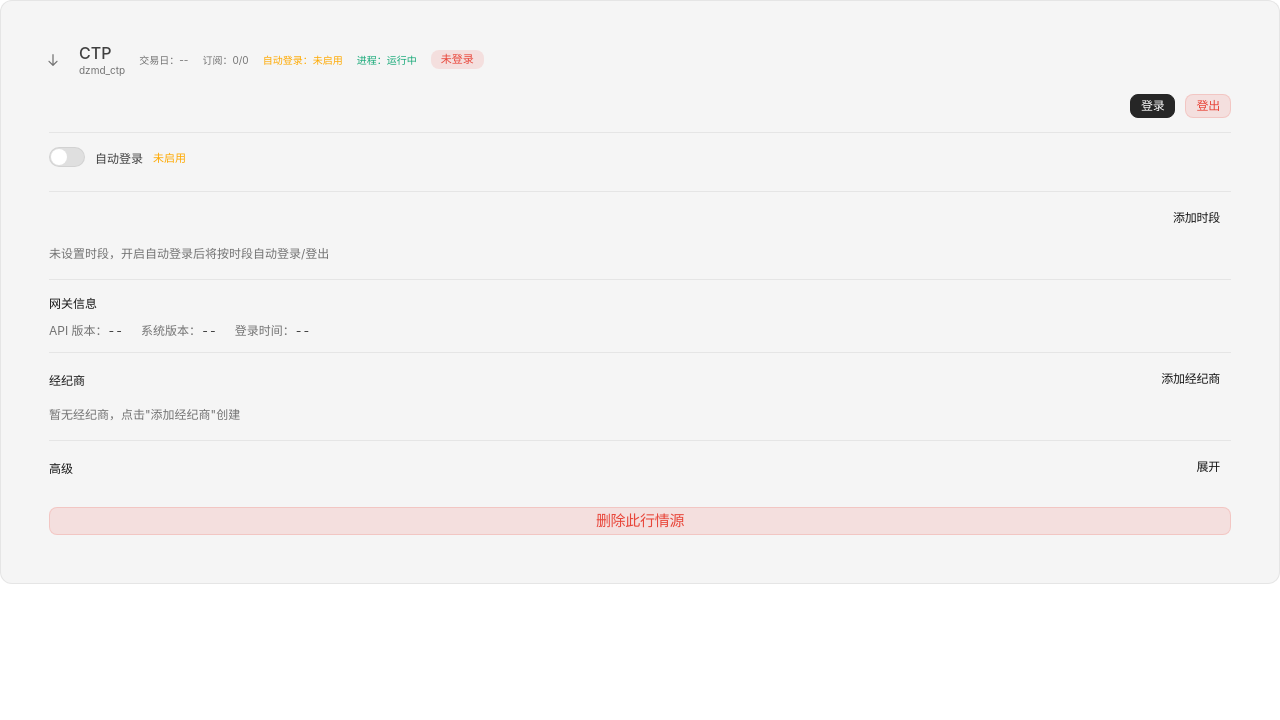
CtpCard 经纪商折叠 › 添加经纪商：名称为空时确认禁用，填写后可提交
Click the button "添加经纪商" at (1191,379), box [1150, 367, 1231, 391]
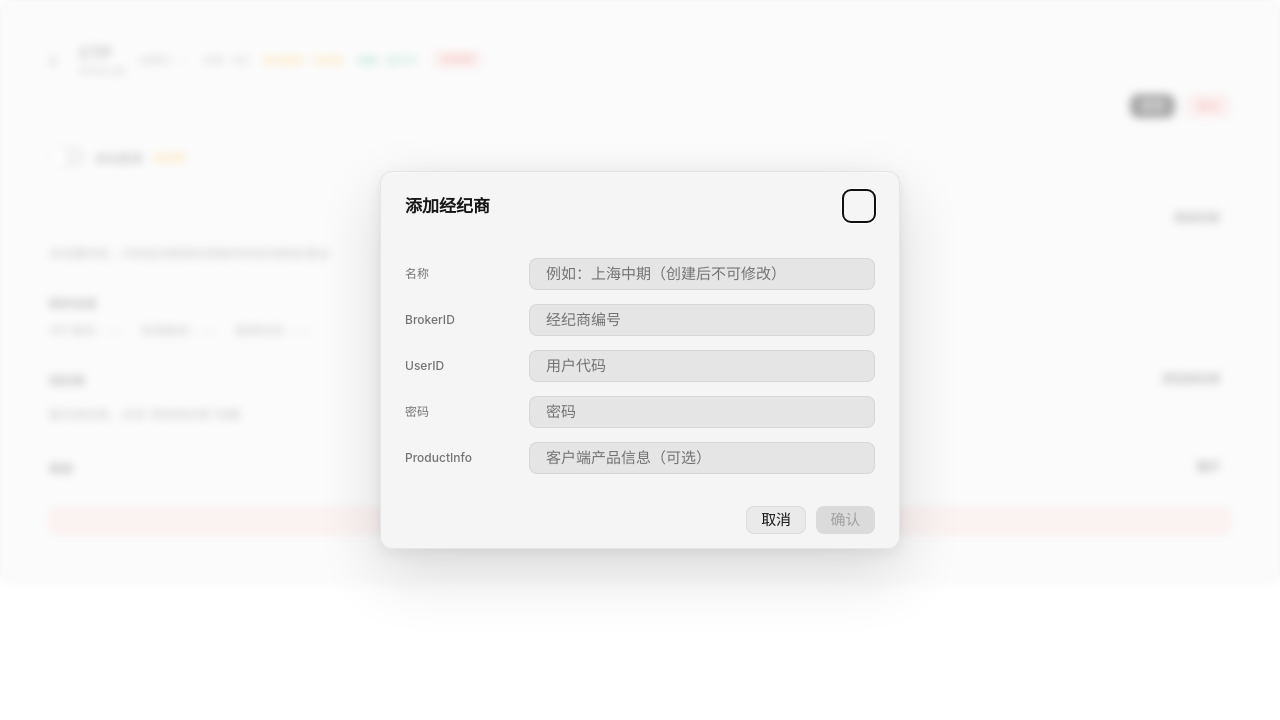
Expected: the field labelled "名称" is shown
Expected: the button "确认" is disabled, [816, 506, 875, 534]
Type "上海中期" into the field labelled "名称" at (702,274), box [544, 262, 860, 286]
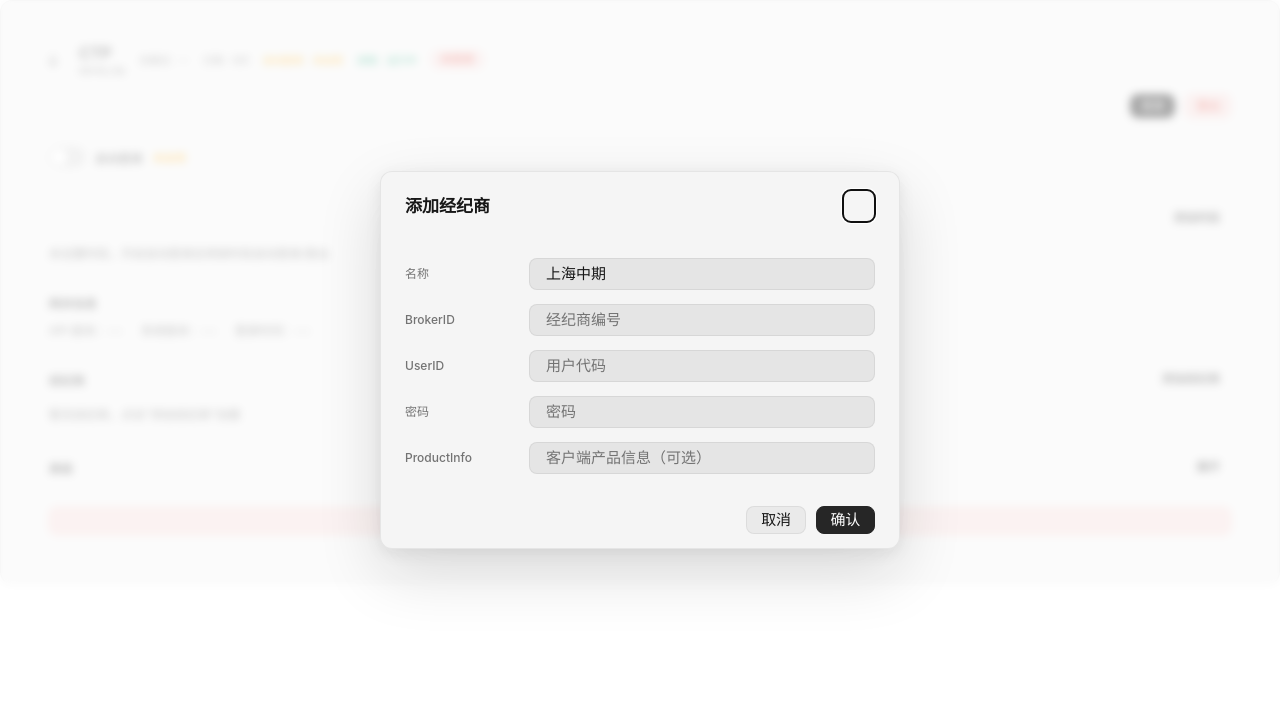
Expected: the button "确认" is enabled, [816, 506, 875, 534]
